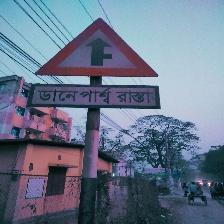Side-road-right: (32, 17, 161, 109)
